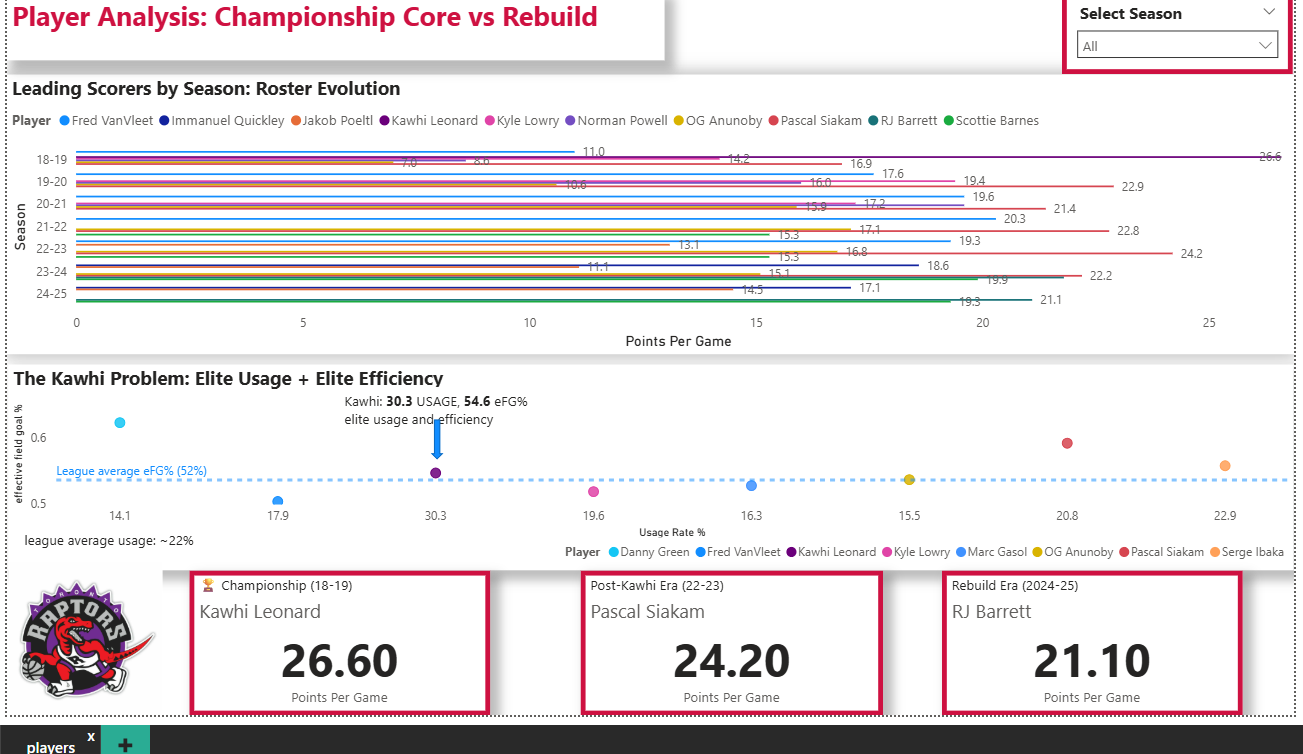

What the dashboard file says about the page in this screenshot:
{"tool":"powerbi","page":{"name":"players","canvas":[1280,720],"ordinal":1},"visuals":[{"type":"clusteredBarChart","title":"Leading Scorers by Season: Roster Evolution","fields":{"Category":["players.Season"],"Series":["players.Player"],"Y":["Avg(players.PTS)"]},"box":[0,81.6,1280.4,278.4],"z":0},{"type":"scatterChart","title":"The Kawhi Problem: Elite Usage + Elite Efficiency","fields":{"Series":["players.Player"],"X":["players.usage"],"Y":["players.eFG%"]},"box":[0.9,370.9,1279.5,204.9],"z":1000},{"type":"slicer","fields":{"Values":["players.Season"]},"box":[1050,0,230,81.3],"z":2000},{"type":"textbox","box":[331,392.6,194.1,45.3],"z":3000},{"type":"shape","box":[421.7,425.3,12.7,39.9],"z":4000},{"type":"card","title":"🏆 Championship (18-19)","fields":{"Values":["Avg(players.PTS)"]},"box":[181.4,575.8,299.2,144.2],"z":5000},{"type":"card","title":"Rebuild Era (2024-25)","fields":{"Values":["Avg(players.PTS)"]},"box":[930.4,575.8,299.2,144.2],"z":6000},{"type":"card","title":"Post-Kawhi Era (22-23)","fields":{"Values":["Max(players.PTS)"]},"box":[571.3,575.8,301.1,144.2],"z":7000},{"type":"textbox","box":[0,0,654.7,68],"z":8000},{"type":"textbox","box":[12.8,530.8,180,37.2],"z":9000},{"type":"image","box":[1,567.7,154.6,152.6],"z":10000}]}

Visuals, with their boxes on the page's 1280x720 design canvas (x1, y1, x2, y2). These are canvas units, not pixel positions in the 1303x754 screenshot, which may show the page scaled, cropped or inside an application window:
"Leading Scorers by Season: Roster Evolution" clusteredBarChart: (x1=0, y1=82, x2=1280, y2=360)
"The Kawhi Problem: Elite Usage + Elite Efficiency" scatterChart: (x1=1, y1=371, x2=1280, y2=576)
slicer - players.Season: (x1=1050, y1=0, x2=1280, y2=81)
textbox: (x1=331, y1=393, x2=525, y2=438)
shape: (x1=422, y1=425, x2=434, y2=465)
"🏆 Championship (18-19)" card: (x1=181, y1=576, x2=481, y2=720)
"Rebuild Era (2024-25)" card: (x1=930, y1=576, x2=1230, y2=720)
"Post-Kawhi Era (22-23)" card: (x1=571, y1=576, x2=872, y2=720)
textbox: (x1=0, y1=0, x2=655, y2=68)
textbox: (x1=13, y1=531, x2=193, y2=568)
image: (x1=1, y1=568, x2=156, y2=720)
